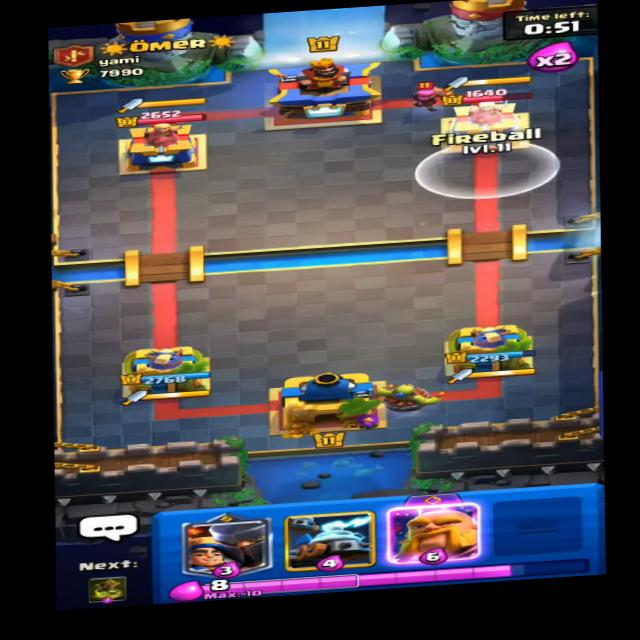firecracker: (403, 80, 458, 116)
